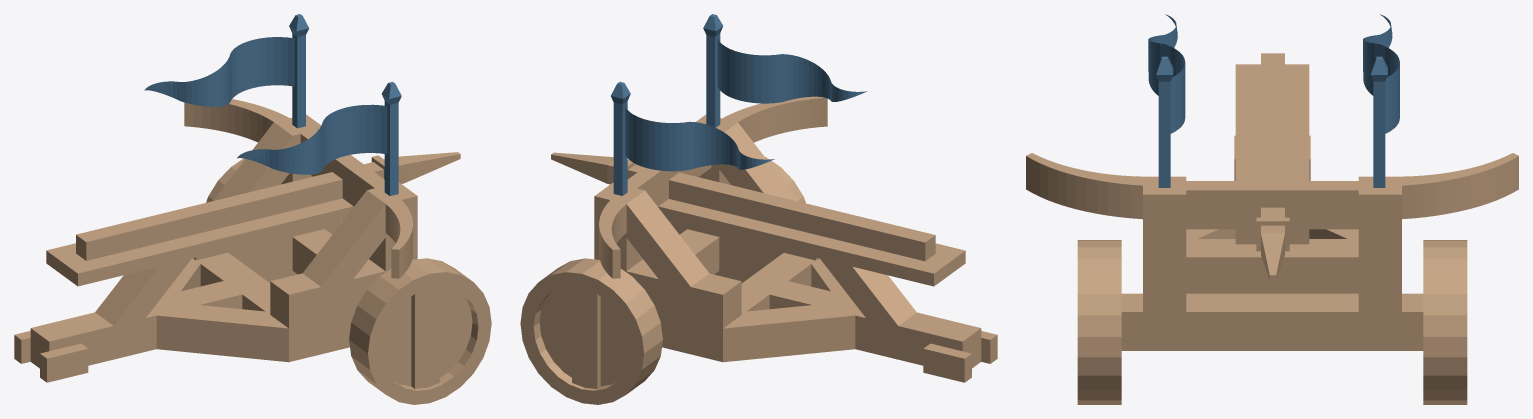
The model's file is siegeballista.glb.
3 views of the same model, side by side, from view 1: azimuth 30°, elevation 25°; view 2: azimuth 150°, elevation 25°; view 3: azimuth 270°, elevation 25° (orthographic). The views are drawn at different scales.
Visible parts, largest first — view 1: body 5, wheelFrontRight 10, arrow 2, flag 20, flag 21, wheelFrontLeft 10; view 2: body 5, wheelFrontLeft 10, arrow 2, flag 21, flag 20, wheelFrontRight 10; view 3: body 5, wheelFrontLeft 10, wheelFrontRight 10, arrow 2, flag 20, flag 21.
Part boxes in pixels (<box>): body 5: <box>14,99,417,382</box>; wheelFrontRight 10: <box>349,258,491,404</box>; arrow 2: <box>76,152,460,260</box>; flag 20: <box>237,82,401,195</box>; flag 21: <box>144,14,309,128</box>; wheelFrontLeft 10: <box>206,158,341,282</box>; body 5: <box>594,96,997,382</box>; wheelFrontLeft 10: <box>520,258,662,404</box>; arrow 2: <box>551,152,935,261</box>; flag 21: <box>611,82,774,195</box>; flag 20: <box>703,14,867,127</box>; wheelFrontRight 10: <box>670,157,805,282</box>; body 5: <box>1026,64,1518,350</box>; wheelFrontLeft 10: <box>1423,240,1467,404</box>; wheelFrontRight 10: <box>1077,240,1121,404</box>; arrow 2: <box>1256,53,1289,280</box>; flag 20: <box>1148,14,1185,187</box>; flag 21: <box>1363,14,1399,187</box>.
Size of the model in its own units: 13.96 by 9.1 by 11.98.
